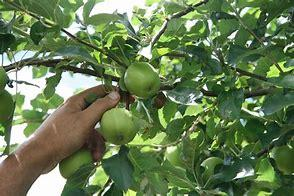apple: (124, 63, 171, 96), (58, 147, 93, 186), (104, 108, 139, 143)
